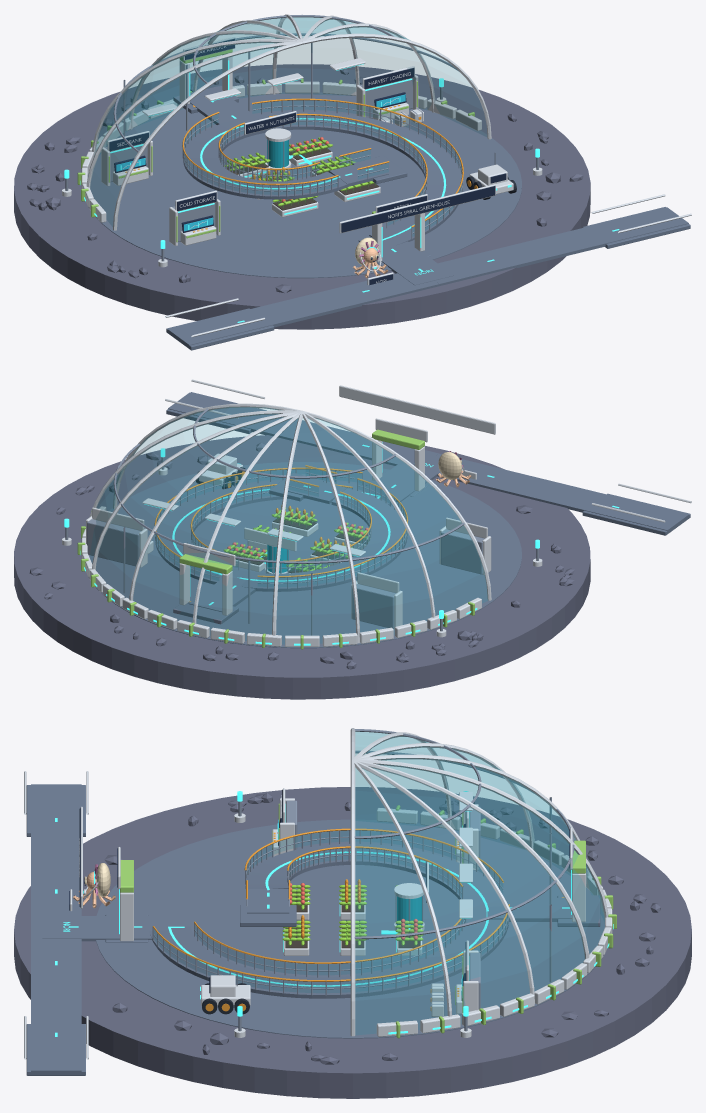
Rendered from nori.glb.
3 views of the same model, one above another, from view 1: azimuth 30°, elevation 25°; view 2: azimuth 150°, elevation 25°; view 3: azimuth 270°, elevation 25° (orthographic). The views are drawn at different scales.
Visible parts, largest first — view 1: BATCH_nori floor.002, BATCH_nori rock.002, BATCH_nori glass.002, BATCH_nori white.002, BATCH_nori steel.002, BATCH_nori navy.002, BATCH_nori cyan.002, BATCH_nori orange.002, BATCH_nori leaf.002, BATCH_nori accent.002, BATCH_nori soil.002, BATCH_nori screen.002 (+1 smaller); view 2: BATCH_nori glass.002, BATCH_nori rock.002, BATCH_nori floor.002, BATCH_nori white.002, BATCH_nori steel.002, BATCH_nori accent.002, BATCH_nori orange.002, BATCH_nori cyan.002, BATCH_nori leaf.002, BATCH_nori soil.002, nori nautilus shell.003; view 3: BATCH_nori floor.002, BATCH_nori rock.002, BATCH_nori glass.002, BATCH_nori white.002, BATCH_nori steel.002, BATCH_nori orange.002, BATCH_nori cyan.002, BATCH_nori accent.002, BATCH_nori leaf.002, BATCH_nori soil.002, BATCH_nori navy.002.
Boxes of the visible parts, <box> form: BATCH_nori floor.002: <box>87,85,690,350</box>; BATCH_nori rock.002: <box>14,64,590,329</box>; BATCH_nori glass.002: <box>90,17,486,236</box>; BATCH_nori white.002: <box>62,14,691,337</box>; BATCH_nori steel.002: <box>65,14,538,261</box>; BATCH_nori navy.002: <box>109,38,506,285</box>; BATCH_nori cyan.002: <box>64,60,619,322</box>; BATCH_nori orange.002: <box>125,98,477,232</box>; BATCH_nori leaf.002: <box>224,137,374,206</box>; BATCH_nori accent.002: <box>77,49,474,242</box>; BATCH_nori soil.002: <box>227,145,379,210</box>; BATCH_nori screen.002: <box>116,94,405,231</box>; BATCH_nori glass.002: <box>90,407,487,644</box>; BATCH_nori rock.002: <box>14,435,590,699</box>; BATCH_nori floor.002: <box>88,392,690,648</box>; BATCH_nori white.002: <box>62,379,691,646</box>; BATCH_nori steel.002: <box>65,408,538,635</box>; BATCH_nori accent.002: <box>77,429,474,649</box>; BATCH_nori orange.002: <box>154,465,408,602</box>; BATCH_nori cyan.002: <box>64,442,619,645</box>; BATCH_nori leaf.002: <box>223,507,368,571</box>; BATCH_nori soil.002: <box>229,515,367,573</box>; nori nautilus shell.003: <box>438,452,461,479</box>; BATCH_nori floor.002: <box>26,784,604,1075</box>; BATCH_nori rock.002: <box>14,787,691,1098</box>; BATCH_nori glass.002: <box>154,731,604,1034</box>; BATCH_nori white.002: <box>24,728,612,1059</box>; BATCH_nori steel.002: <box>152,729,574,1031</box>; BATCH_nori orange.002: <box>152,828,571,1011</box>; BATCH_nori cyan.002: <box>55,791,613,1036</box>; BATCH_nori accent.002: <box>120,803,616,1038</box>; BATCH_nori leaf.002: <box>282,885,423,945</box>; BATCH_nori soil.002: <box>285,892,420,948</box>; BATCH_nori navy.002: <box>69,790,569,1000</box>.
Bounding box in the file's own units: 48 × 15.3 × 48.
